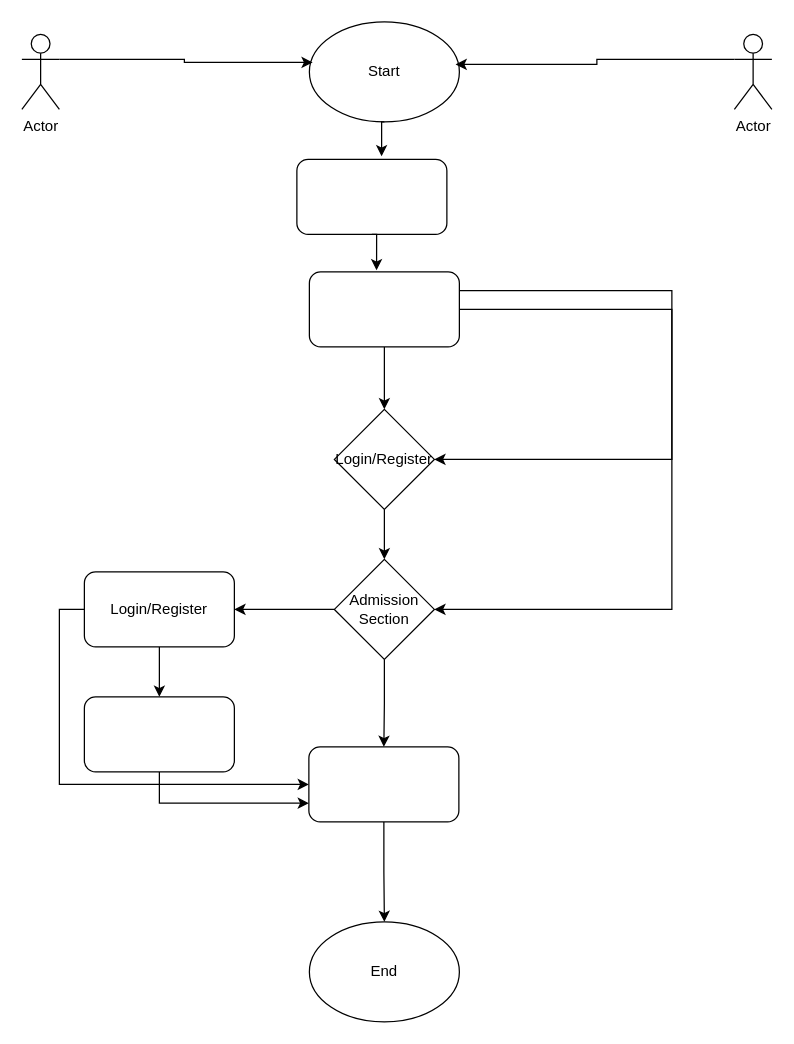
This 794x1044 diagram has some shape labels left out. The shapes that lost their labels are listed below. From the top down, each one's centre as x and y in pixels, then its label:
At (371,196): "Interface/Ui".
At (383,309): "Menu Exploring".
At (158,734): "student corner".
At (383,784): "Confirmation".
